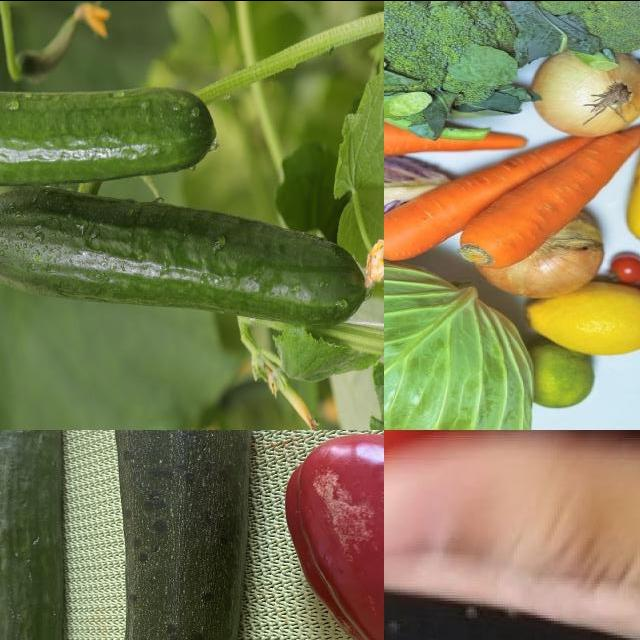cabbage: (385, 260, 529, 430)
carrot: (385, 117, 591, 260), (458, 112, 640, 270), (385, 117, 526, 157)
cucumber: (1, 183, 372, 340), (1, 77, 223, 193)
onion: (472, 212, 605, 298), (532, 40, 640, 141)
tomato: (385, 430, 531, 510)
zucchini: (86, 430, 257, 640)
